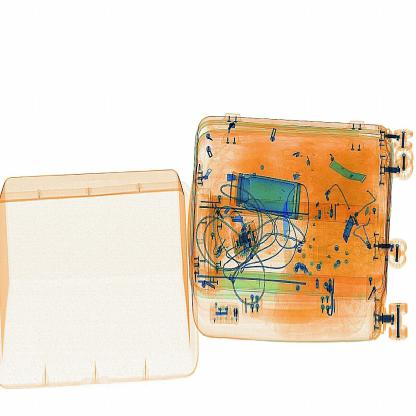wrench: (275, 188, 300, 274)
